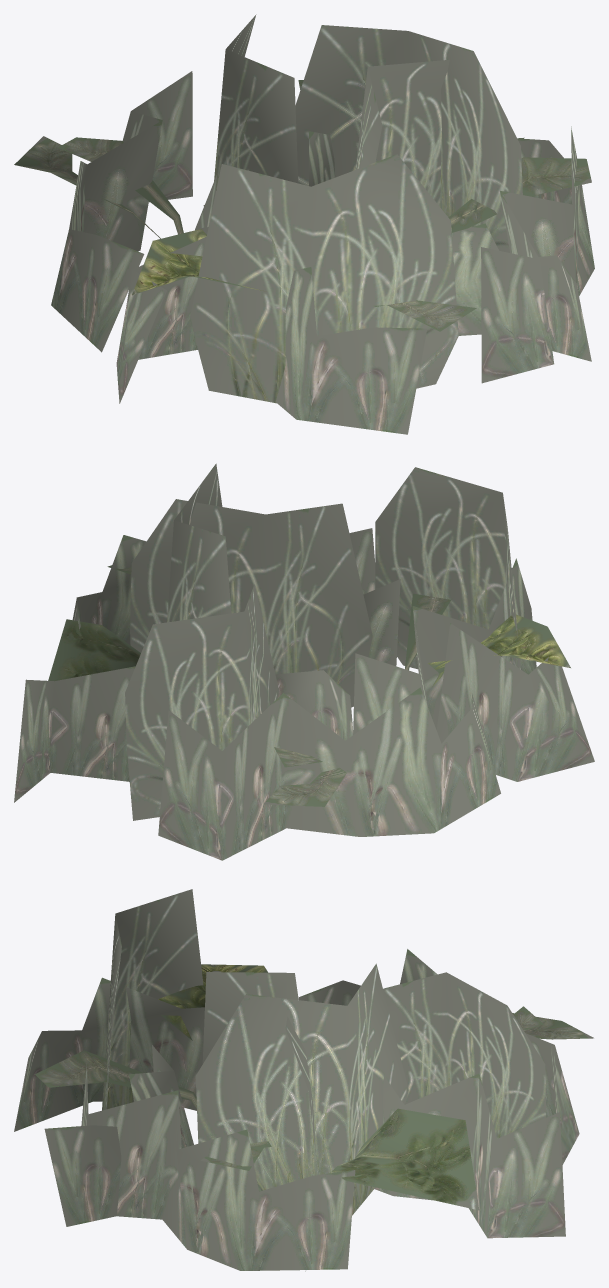
Rendered from proc_grassplantmix_01.FBX.
3 views of the same model, one above another, from view 1: azimuth 30°, elevation 25°; view 2: azimuth 150°, elevation 25°; view 3: azimuth 270°, elevation 25° (orthographic). The views are drawn at different scales.
Visible parts, largest first — view 1: proc_grassplantmix_01; view 2: proc_grassplantmix_01; view 3: proc_grassplantmix_01.
Boxes of the visible parts, x1,y1,x2,y2 form: proc_grassplantmix_01: (14, 14, 594, 434); proc_grassplantmix_01: (14, 463, 594, 860); proc_grassplantmix_01: (14, 889, 593, 1271).
Bounding box in the file's own units: 1.58 × 1.75 × 0.9946.
Materials: 1 (1 with a texture image).
